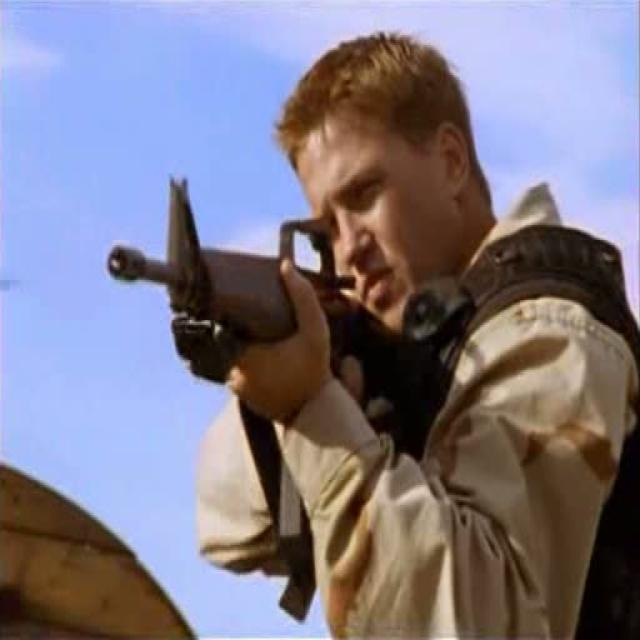rifle: (105, 163, 371, 441)
